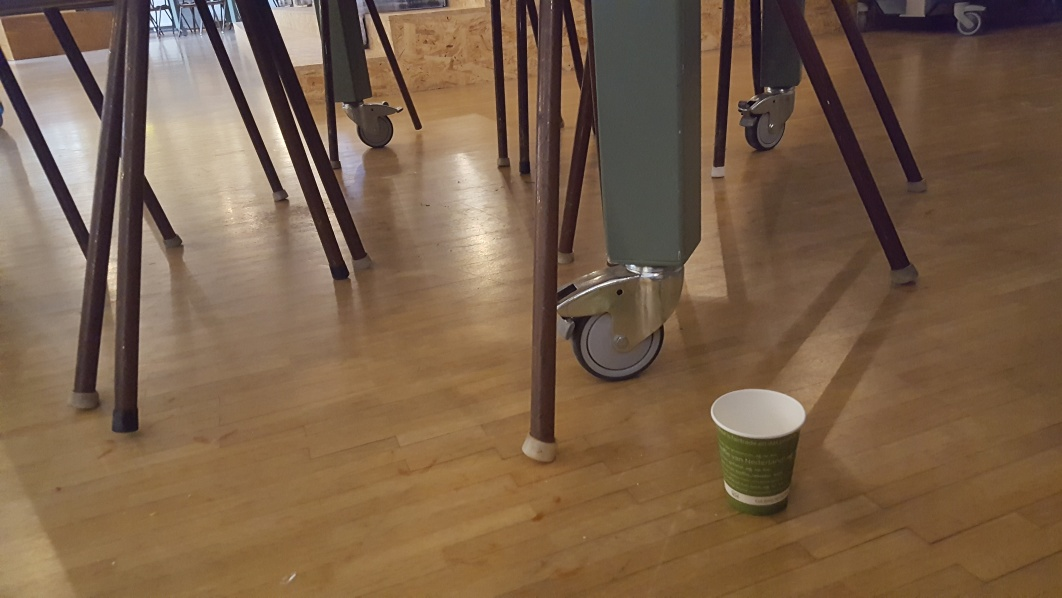cup: (707, 387, 808, 513)
